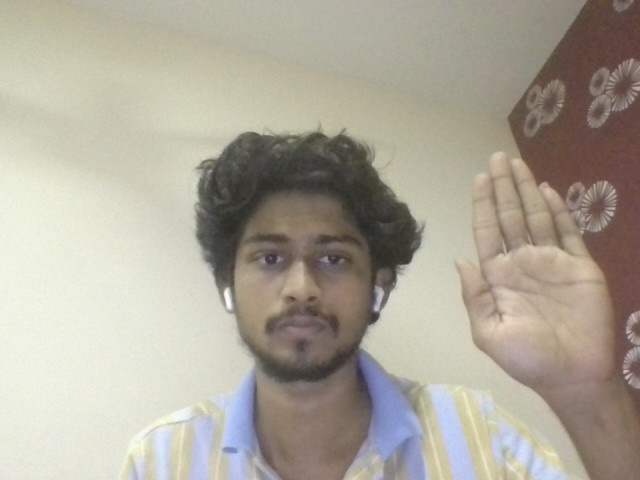hello: (444, 145, 636, 380)
